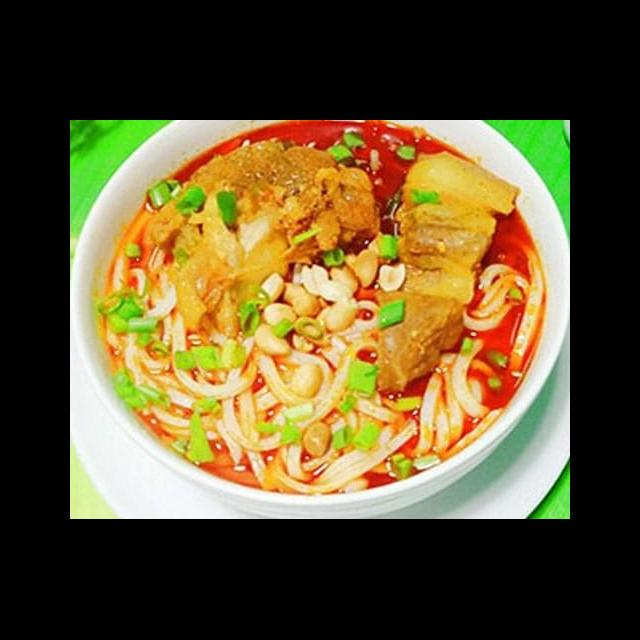mi: (105, 212, 420, 500), (407, 245, 546, 468)
thit heo: (146, 134, 383, 340), (371, 148, 524, 404)
